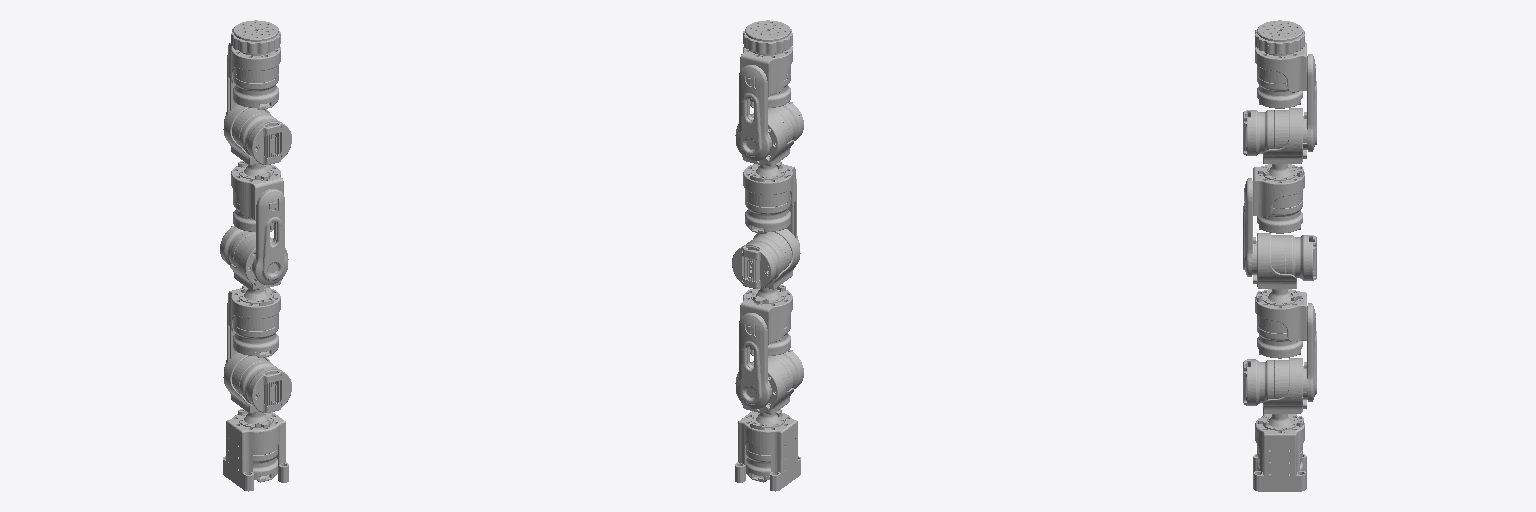
URDF robot description (amber_l1):
<?xml version="1.0" encoding="utf-8"?>
<robot name="amber_l1">
  <link
    name="base_link">
    <inertial>
      <origin
        xyz="-8.47921832188064E-05 0.000151766084751043 0.0396217797415616"
        rpy="0 0 0" />
      <mass
        value="0.137082937097788" />
      <inertia
        ixx="0.00008015"
        ixy="-0.00000001"
        ixz="0.00000031"
        iyy="0.00009195"
        iyz="0.00000097"
        izz="0.00006813" />
    </inertial>
    <visual>
      <origin
        xyz="0 0 0"
        rpy="0 0 0" />
      <geometry>
        <mesh
          filename="meshes/base_link.STL" />
      </geometry>
      <material
        name="">
        <color
          rgba="0.752941176470588 0.752941176470588 0.752941176470588 1" />
      </material>
    </visual>
    <collision>
      <origin
        xyz="0 0 0"
        rpy="0 0 0" />
      <geometry>
        <mesh
          filename="meshes/base_link.STL" />
      </geometry>
    </collision>
  </link>
  <link
    name="one_Link">
    <inertial>
      <origin
        xyz="-7.2838666370467E-05 0.000305826181508822 0.0461392337140137"
        rpy="0 0 0" />
      <mass
        value="0.160380851428424" />
      <inertia
        ixx="0.00010004"
        ixy="0.00000040"
        ixz="-0.00000007"
        iyy="0.00008274"
        iyz="-0.00000225"
        izz="0.00008179" />
    </inertial>
    <visual>
      <origin
        xyz="0 0 0"
        rpy="0 0 0" />
      <geometry>
        <mesh
          filename="meshes/one_Link.STL" />
      </geometry>
      <material
        name="">
        <color
          rgba="0.752941176470588 0.752941176470588 0.752941176470588 1" />
      </material>
    </visual>
    <collision>
      <origin
        xyz="0 0 0"
        rpy="0 0 0" />
      <geometry>
        <mesh
          filename="meshes/one_Link.STL" />
      </geometry>
    </collision>
  </link>
  <joint
    name="joint1"
    type="revolute">
    <origin
      xyz="0 0 0.07"
      rpy="0 0 0" />
    <parent
      link="base_link" />
    <child
      link="one_Link" />
    <axis
      xyz="0 0 1" />
    <limit
      lower="-2.4435"
      upper="2.4435"
      effort="100"
      velocity="10" />
  </joint>
  <link
    name="two_Link">
    <inertial>
      <origin
        xyz="-6.2847937761713E-05 -0.0712735300451626 0.0103290334654566"
        rpy="0 0 0" />
      <mass
        value="0.186352477139439" />
      <inertia
        ixx="0.00021458"
        ixy="-0.00000029"
        ixz="0.00000011"
        iyy="0.00010223"
        iyz="0.00003893"
        izz="0.00018260" />
    </inertial>
    <visual>
      <origin
        xyz="0 0 0"
        rpy="0 0 0" />
      <geometry>
        <mesh
          filename="meshes/two_Link.STL" />
      </geometry>
      <material
        name="">
        <color
          rgba="0.752941176470588 0.752941176470588 0.752941176470588 1" />
      </material>
    </visual>
    <collision>
      <origin
        xyz="0 0 0"
        rpy="0 0 0" />
      <geometry>
        <mesh
          filename="meshes/two_Link.STL" />
      </geometry>
    </collision>
  </link>
  <joint
    name="joint2"
    type="revolute">
    <origin
      xyz="0 0 0.053"
      rpy="-1.5708 0 0" />
    <parent
      link="one_Link" />
    <child
      link="two_Link" />
    <axis
      xyz="0 0 1" />
    <limit
      lower="-2.3213"
      upper="2.3213"
      effort="100"
      velocity="10" />
  </joint>
  <link
    name="three_Link">
    <inertial>
      <origin
        xyz="-6.96298213181922E-05 -0.000305885497154144 0.0460778704823572"
        rpy="0 0 0" />
      <mass
        value="0.160380851428436" />
      <inertia
        ixx="0.00009991"
        ixy="-0.00000041"
        ixz="-0.00000010"
        iyy="0.00008261"
        iyz="0.00000201"
        izz="0.00008179" />
    </inertial>
    <visual>
      <origin
        xyz="0 0 0"
        rpy="0 0 0" />
      <geometry>
        <mesh
          filename="meshes/three_Link.STL" />
      </geometry>
      <material
        name="">
        <color
          rgba="0.752941176470588 0.752941176470588 0.752941176470588 1" />
      </material>
    </visual>
    <collision>
      <origin
        xyz="0 0 0"
        rpy="0 0 0" />
      <geometry>
        <mesh
          filename="meshes/three_Link.STL" />
      </geometry>
    </collision>
  </link>
  <joint
    name="joint3"
    type="revolute">
    <origin
      xyz="0 -0.104 0"
      rpy="1.5708 0 0" />
    <parent
      link="two_Link" />
    <child
      link="three_Link" />
    <axis
      xyz="0 0 1" />
    <limit
      lower="-2.2863"
      upper="2.2863"
      effort="100"
      velocity="10" />
  </joint>
  <link
    name="four_Link">
    <inertial>
      <origin
        xyz="-5.95083364920892E-05 0.0712735300444526 0.0103818446085666"
        rpy="0 0 0" />
      <mass
        value="0.186352477139436" />
      <inertia
        ixx="0.00021437"
        ixy="0.00000029"
        ixz="0.00000014"
        iyy="0.00010202"
        iyz="-0.00003907"
        izz="0.00018260" />
    </inertial>
    <visual>
      <origin
        xyz="0 0 0"
        rpy="0 0 0" />
      <geometry>
        <mesh
          filename="meshes/four_Link.STL" />
      </geometry>
      <material
        name="">
        <color
          rgba="0.752941176470588 0.752941176470588 0.752941176470588 1" />
      </material>
    </visual>
    <collision>
      <origin
        xyz="0 0 0"
        rpy="0 0 0" />
      <geometry>
        <mesh
          filename="meshes/four_Link.STL" />
      </geometry>
    </collision>
  </link>
  <joint
    name="joint4"
    type="revolute">
    <origin
      xyz="0 0 0.053"
      rpy="1.5708 0 0" />
    <parent
      link="three_Link" />
    <child
      link="four_Link" />
    <axis
      xyz="0 0 1" />
    <limit
      lower="-2.2863"
      upper="2.2863"
      effort="100"
      velocity="10" />
  </joint>
  <link
    name="five_Link">
    <inertial>
      <origin
        xyz="-7.25404851468109E-05 0.000305885498298983 0.0461392337140121"
        rpy="0 0 0" />
      <mass
        value="0.16038085142841" />
      <inertia
        ixx="0.00010004"
        ixy="0.00000040"
        ixz="-0.00000007"
        iyy="0.00008274"
        iyz="-0.00000225"
        izz="0.00008179" />
    </inertial>
    <visual>
      <origin
        xyz="0 0 0"
        rpy="0 0 0" />
      <geometry>
        <mesh
          filename="meshes/five_Link.STL" />
      </geometry>
      <material
        name="">
        <color
          rgba="0.752941176470588 0.752941176470588 0.752941176470588 1" />
      </material>
    </visual>
    <collision>
      <origin
        xyz="0 0 0"
        rpy="0 0 0" />
      <geometry>
        <mesh
          filename="meshes/five_Link.STL" />
      </geometry>
    </collision>
  </link>
  <joint
    name="joint5"
    type="revolute">
    <origin
      xyz="0 0.104 0"
      rpy="-1.5708 0 0" />
    <parent
      link="four_Link" />
    <child
      link="five_Link" />
    <axis
      xyz="0 0 1" />
    <limit
      lower="-2.2863"
      upper="2.2863"
      effort="100"
      velocity="10" />
  </joint>
  <link
    name="six_Link">
    <inertial>
      <origin
        xyz="-6.3234553025939E-05 -0.0710469470127731 0.0105353927578225"
        rpy="0 0 0" />
      <mass
        value="0.185213120483254" />
      <inertia
        ixx="0.00021173"
        ixy="-0.00000029"
        ixz="0.00000012"
        iyy="0.00010090"
        iyz="0.00003751"
        izz="0.00018102" />
    </inertial>
    <visual>
      <origin
        xyz="0 0 0"
        rpy="0 0 0" />
      <geometry>
        <mesh
          filename="meshes/six_Link.STL" />
      </geometry>
      <material
        name="">
        <color
          rgba="0.752941176470588 0.752941176470588 0.752941176470588 1" />
      </material>
    </visual>
    <collision>
      <origin
        xyz="0 0 0"
        rpy="0 0 0" />
      <geometry>
        <mesh
          filename="meshes/six_Link.STL" />
      </geometry>
    </collision>
  </link>
  <joint
    name="joint6"
    type="revolute">
    <origin
      xyz="0 0 0.053"
      rpy="-1.5708 0 0" />
    <parent
      link="five_Link" />
    <child
      link="six_Link" />
    <axis
      xyz="0 0 1" />
    <limit
      lower="-2.2863"
      upper="2.2863"
      effort="100"
      velocity="10" />
  </joint>
  <link
    name="seven_Link">
    <inertial>
      <origin
        xyz="3.87308981628677E-06 -2.54409993840369E-06 -0.0105687813394271"
        rpy="0 0 0" />
      <mass
        value="0.0448225473770891" />
      <inertia
        ixx="0.00001019"
        ixy="0.00000000"
        ixz="0.00000000"
        iyy="0.00001020"
        iyz="0.00000000"
        izz="0.00001696" />
    </inertial>
    <visual>
      <origin
        xyz="0 0 0"
        rpy="0 0 0" />
      <geometry>
        <mesh
          filename="meshes/seven_Link.STL" />
      </geometry>
      <material
        name="">
        <color
          rgba="0.752941176470588 0.752941176470588 0.752941176470588 1" />
      </material>
    </visual>
    <collision>
      <origin
        xyz="0 0 0"
        rpy="0 0 0" />
      <geometry>
        <mesh
          filename="meshes/seven_Link.STL" />
      </geometry>
    </collision>
  </link>
  <joint
    name="joint7"
    type="revolute">
    <origin
      xyz="0 -0.1296 0"
      rpy="1.5708 0 0" />
    <parent
      link="six_Link" />
    <child
      link="seven_Link" />
    <axis
      xyz="0 0 1" />
    <limit
      lower="-2.2863"
      upper="2.2863"
      effort="100"
      velocity="10" />
  </joint>
</robot>

--- What the picture shows (computed from the rendered views, not written in the file) ---
The picture shows the robot from 3 angles, left to right: view 1: azimuth 30°, elevation 25°; view 2: azimuth 150°, elevation 25°; view 3: azimuth 270°, elevation 25°; orthographic projection.
Robot: amber_l1 — 8 links, 7 joints (7 revolute); root link base_link; default pose: all joints at 0.
Visible links, largest first — view 1: four_Link, base_link, one_Link, five_Link, two_Link, six_Link, three_Link, seven_Link; view 2: two_Link, six_Link, base_link, three_Link, four_Link, five_Link, one_Link, seven_Link; view 3: four_Link, two_Link, six_Link, one_Link, five_Link, three_Link, base_link, seven_Link.
Boxes of the visible links, x1,y1,x2,y2 form: four_Link: (231,161,287,285); base_link: (223,409,288,491); one_Link: (223,353,291,427); five_Link: (223,105,291,179); two_Link: (224,288,280,369); six_Link: (224,43,280,121); three_Link: (220,226,288,303); seven_Link: (231,20,280,55); two_Link: (736,285,792,409); six_Link: (736,46,792,160); base_link: (735,411,800,491); three_Link: (732,229,800,303); four_Link: (743,164,799,245); five_Link: (735,102,803,179); one_Link: (735,350,803,427); seven_Link: (743,20,792,55); four_Link: (1243,164,1304,276); two_Link: (1255,289,1316,401); six_Link: (1255,42,1316,151); one_Link: (1243,358,1306,430); five_Link: (1243,108,1306,180); three_Link: (1253,233,1316,305); base_link: (1253,414,1306,491); seven_Link: (1255,20,1304,55).
Bounding box of the posed robot: 0.059 × 0.084 × 0.5666 m (x, y, z).
Meshes: 8 distinct files referenced, 8 mesh visuals loaded (8 binary STL).
